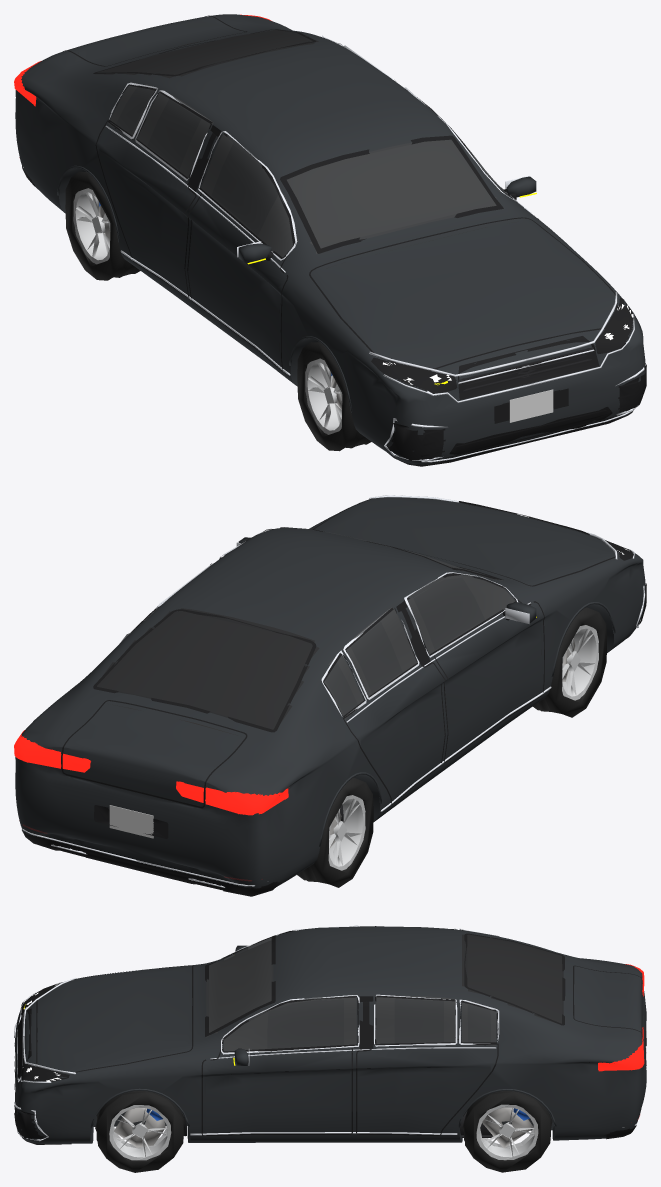
The model's file is sedan-lod1.glb.
The picture shows the model from 3 angles, top to bottom: view 1: azimuth 30°, elevation 25°; view 2: azimuth 150°, elevation 25°; view 3: azimuth 270°, elevation 25°; orthographic projection. The views are drawn at different scales.
Parts seen in each view (by area): view 1: Body, HoodSkin, Body_Lining, Body_Trim, Panel_RR, Panel_FR, Window_FR, TrunkSkin, Window_RR, Window_FR_Lining, Wheel_FR_Tyre, Wheel_RR_Tyre (+8 smaller); view 2: Body, HoodSkin, TrunkSkin, Panel_FR, Panel_RR, Body_Trim, Body_Lining, Window_FR, Window_RR, Window_FR_Lining, Wheel_FR_Tyre, Wheel_RR_Tyre (+8 smaller); view 3: Body, HoodSkin, Panel_FL, Panel_RL, Body_Lining, Window_FL, Body_Trim, TrunkSkin, Window_RL, Window_FL_Lining, Wheel_FL_Tyre, Wheel_RL_Tyre (+9 smaller).
Boxes of the visible parts, left/top/right/bottom form: Body: left=15, top=14, right=645, bottom=464; HoodSkin: left=311, top=221, right=615, bottom=368; Body_Lining: left=78, top=30, right=602, bottom=351; Body_Trim: left=14, top=14, right=646, bottom=466; Panel_RR: left=97, top=86, right=194, bottom=295; Panel_FR: left=189, top=194, right=286, bottom=366; Window_FR: left=202, top=136, right=292, bottom=257; TrunkSkin: left=68, top=16, right=244, bottom=65; Window_RR: left=136, top=94, right=209, bottom=180; Window_FR_Lining: left=212, top=143, right=277, bottom=235; Wheel_FR_Tyre: left=297, top=342, right=371, bottom=451; Wheel_RR_Tyre: left=65, top=171, right=140, bottom=280; Body: left=15, top=497, right=645, bottom=894; HoodSkin: left=315, top=497, right=615, bottom=585; TrunkSkin: left=64, top=703, right=244, bottom=804; Panel_FR: left=435, top=603, right=541, bottom=758; Panel_RR: left=323, top=656, right=444, bottom=800; Body_Trim: left=14, top=501, right=646, bottom=896; Body_Lining: left=98, top=536, right=541, bottom=735; Window_FR: left=408, top=575, right=514, bottom=652; Window_RR: left=346, top=610, right=416, bottom=700; Window_FR_Lining: left=413, top=578, right=484, bottom=649; Wheel_FR_Tyre: left=533, top=607, right=606, bottom=717; Wheel_RR_Tyre: left=297, top=777, right=373, bottom=887; Body: left=15, top=926, right=646, bottom=1144; HoodSkin: left=37, top=966, right=188, bottom=1071; Panel_FL: left=206, top=1047, right=350, bottom=1133; Panel_RL: left=357, top=1003, right=496, bottom=1134; Body_Lining: left=207, top=935, right=561, bottom=1050; Window_FL: left=224, top=998, right=356, bottom=1052; Body_Trim: left=14, top=933, right=646, bottom=1144; TrunkSkin: left=577, top=967, right=643, bottom=1035; Window_RL: left=375, top=997, right=455, bottom=1045; Window_FL_Lining: left=267, top=999, right=343, bottom=1048; Wheel_FL_Tyre: left=95, top=1091, right=185, bottom=1172; Wheel_RL_Tyre: left=462, top=1091, right=552, bottom=1172.
Bounding box in the file's own units: 2.05 × 1.45 × 4.86.
